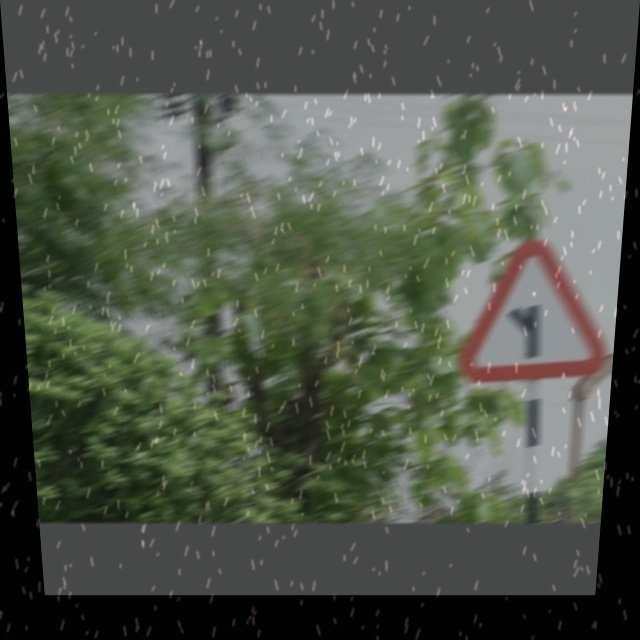Y_Intersection: (460, 240, 607, 380)
